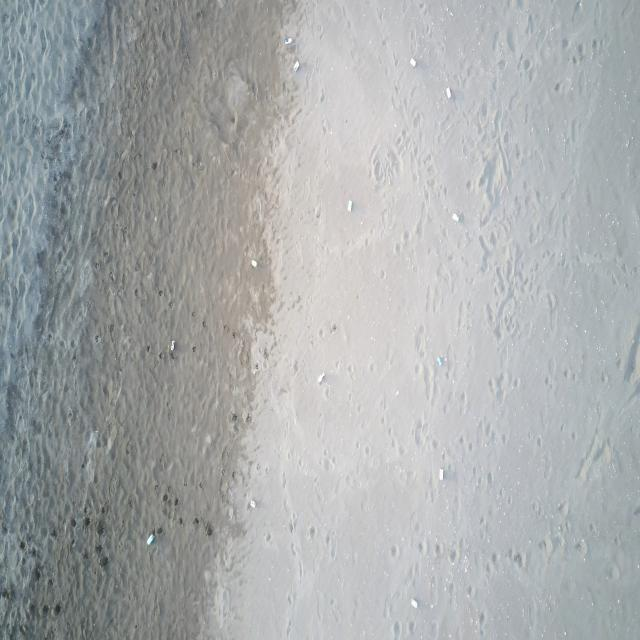tin-and-aluminum-cans: (317, 370, 326, 384), (146, 533, 154, 546), (347, 198, 353, 214), (293, 59, 300, 72), (410, 598, 418, 609), (446, 86, 452, 100), (170, 339, 176, 352), (409, 57, 416, 68), (250, 499, 257, 509), (439, 467, 444, 481), (452, 212, 459, 222), (285, 36, 292, 45), (251, 259, 257, 268), (438, 356, 442, 366)
